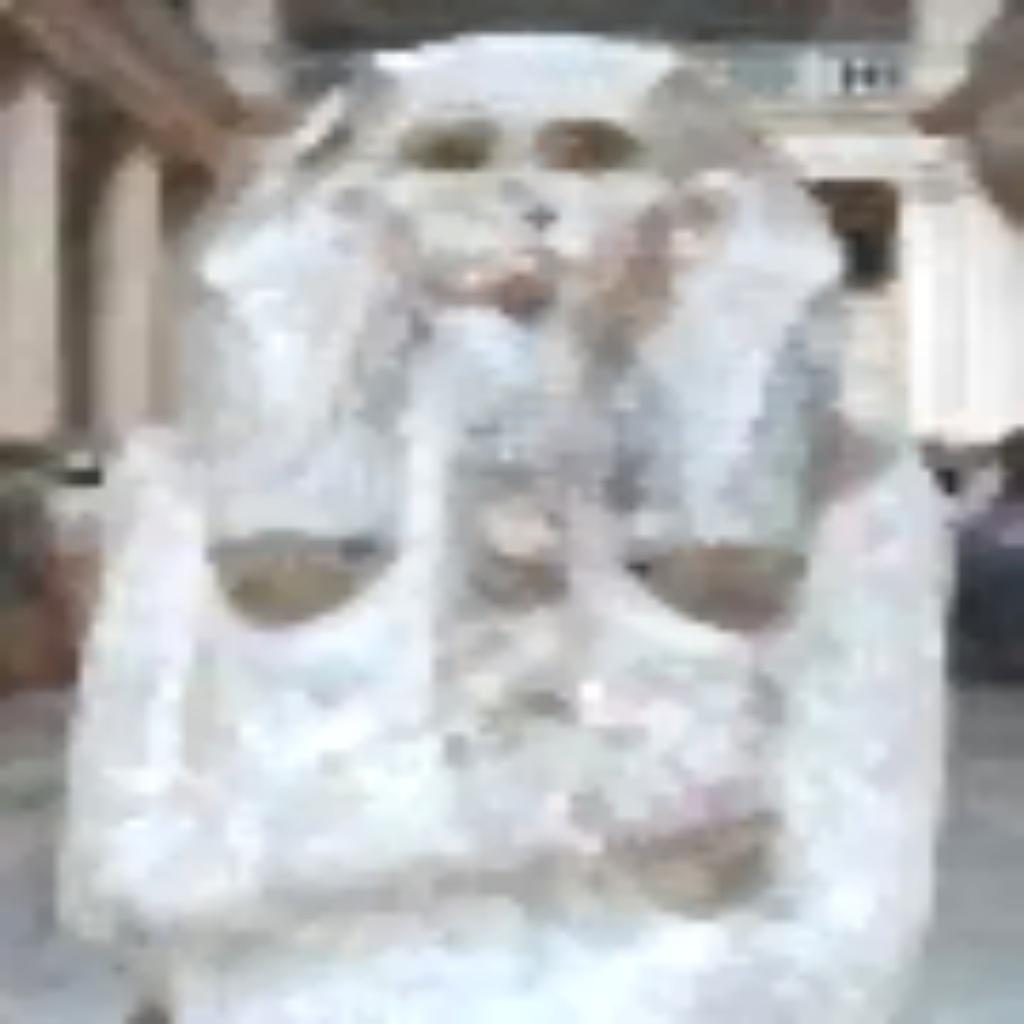Statue of King Zoser: (46, 26, 956, 1016)
